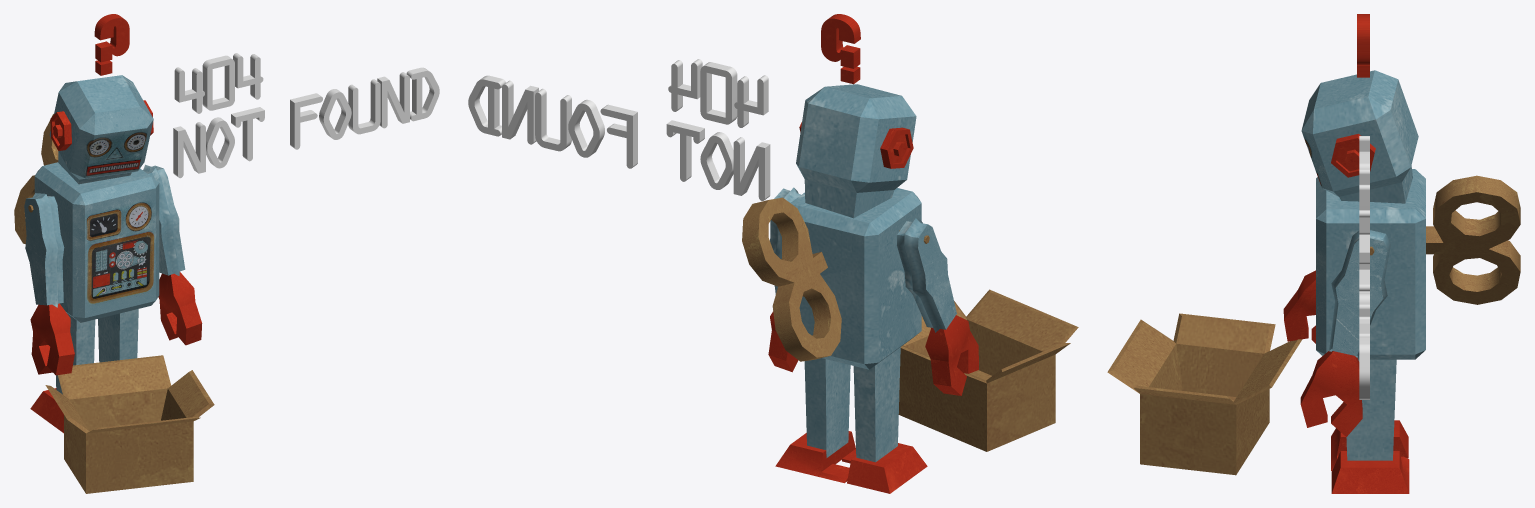
The model's file is robot.gltf.
3 views of the same model, side by side, from view 1: azimuth 30°, elevation 25°; view 2: azimuth 150°, elevation 25°; view 3: azimuth 270°, elevation 25° (orthographic). The views are drawn at different scales.
Visible parts, largest first — view 1: robot:polySurface1; view 2: robot:polySurface1; view 3: robot:polySurface1.
Boxes of the visible parts, left/top/right/bottom form: robot:polySurface1: left=14, top=14, right=439, bottom=493; robot:polySurface1: left=468, top=14, right=1078, bottom=493; robot:polySurface1: left=1107, top=14, right=1520, bottom=493.
Size of the model in its own units: 1.39 by 1.16 by 0.9509.
1 material, 1 textured.
